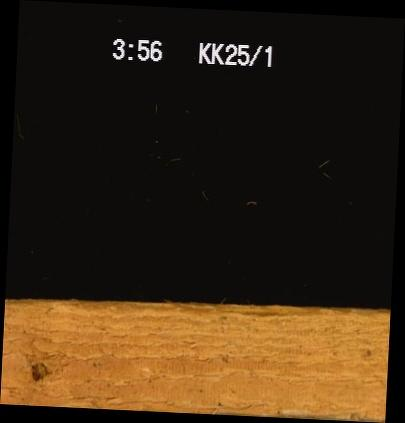dry_knot: (28, 359, 49, 382)
